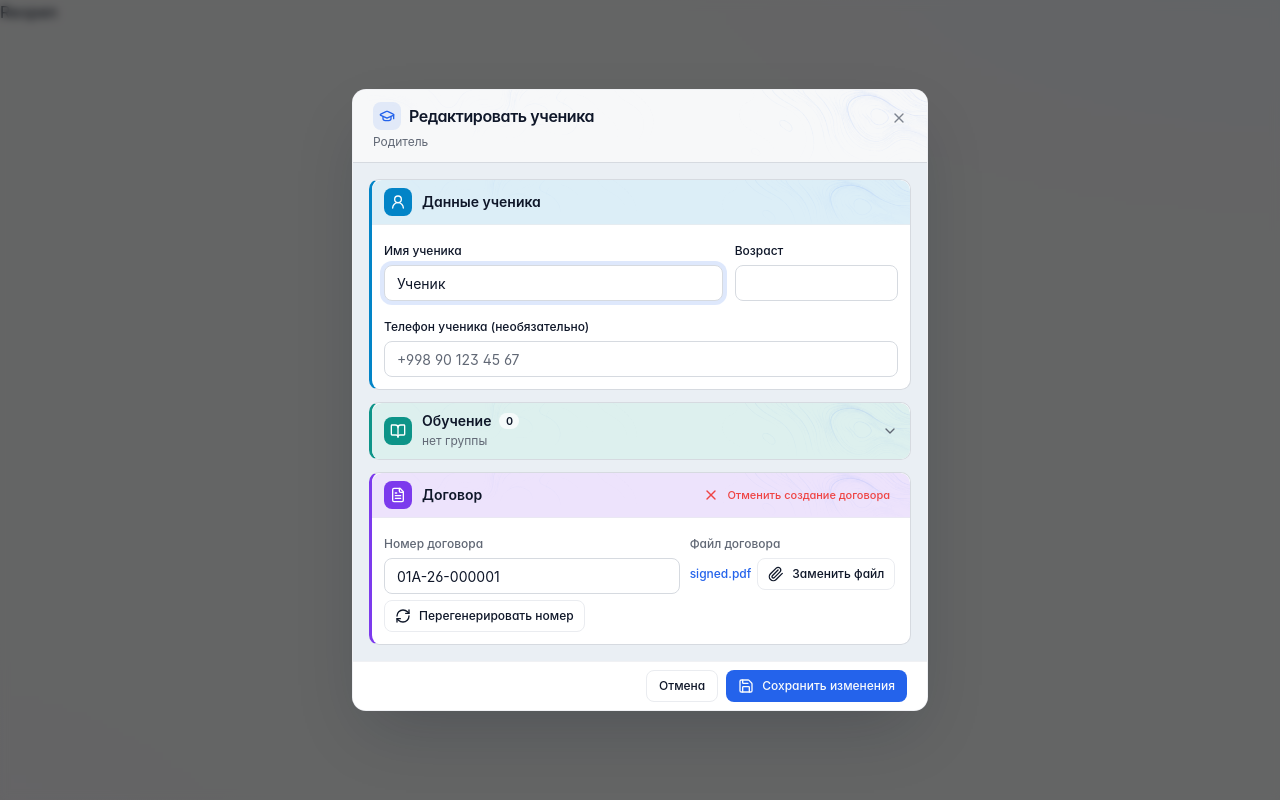
student contracts inside the student dialog › confirms regeneration and preserves the existing attached file
The image size is (1280, 800).
Expected: the field labelled "Номер договора" is shown, left=384, top=558, right=680, bottom=594
Click the button "Перегенерировать номер".
click(484, 616)  # box left=384, top=600, right=585, bottom=632
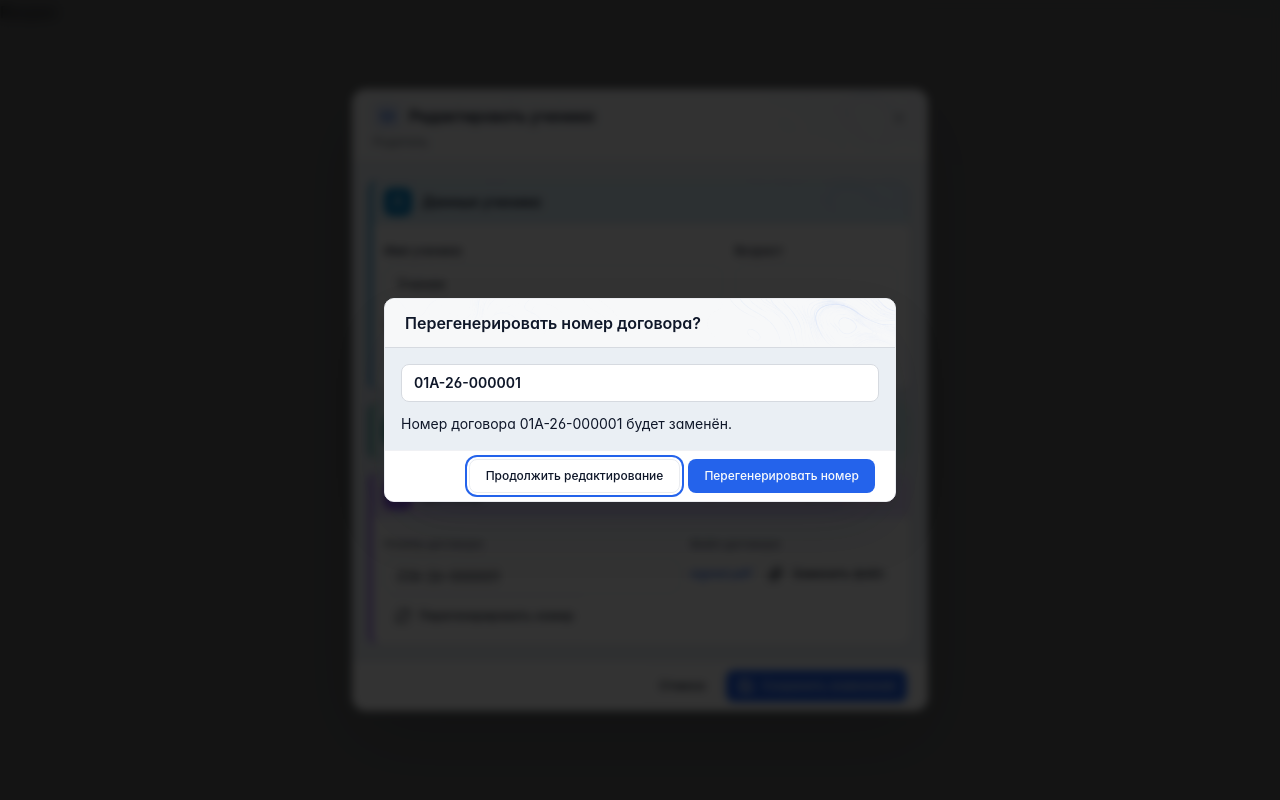
Expected: the dialog that starts with "Перегенерировать номер договора?" shows "01A-26-000001", left=414, top=374, right=521, bottom=391
Click the button "Перегенерировать номер".
click(782, 476)  # box left=688, top=459, right=875, bottom=493
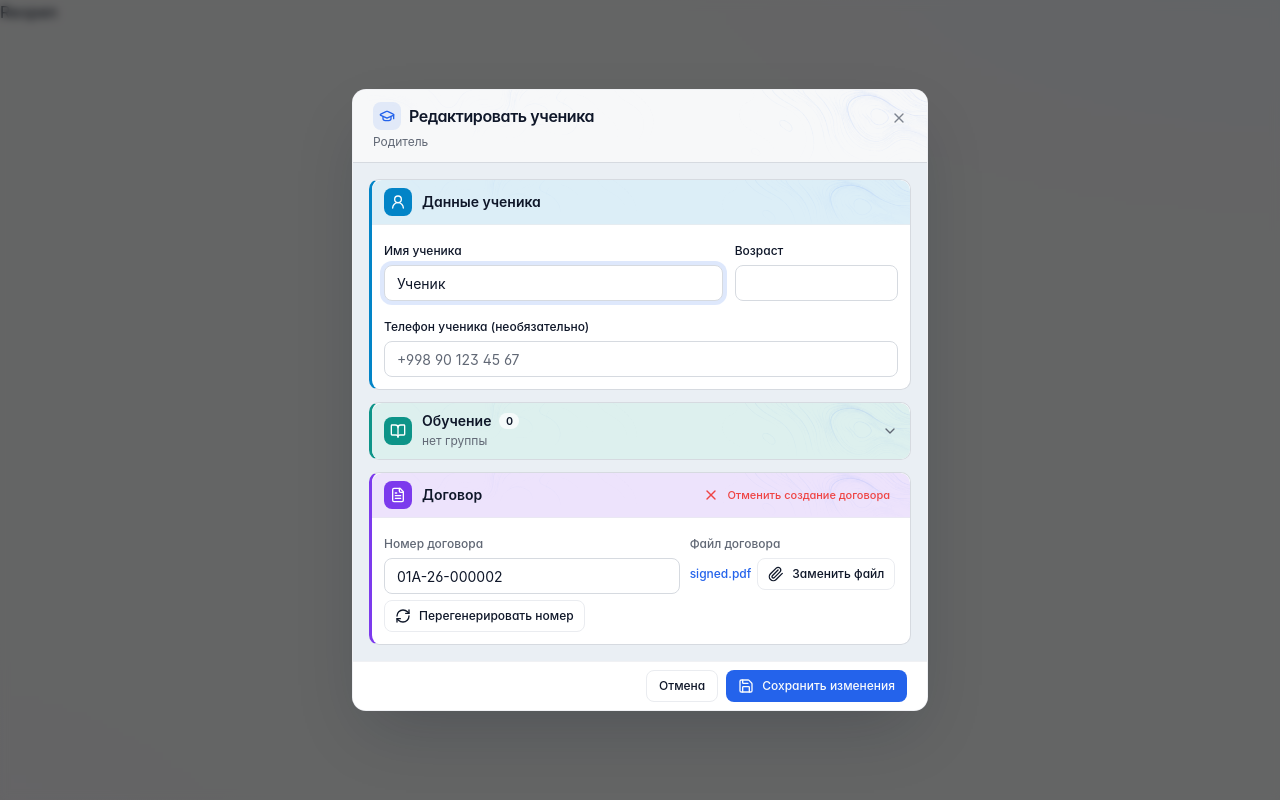
Expected: the field labelled "Номер договора" holds "01A-26-000002", left=384, top=558, right=680, bottom=594
